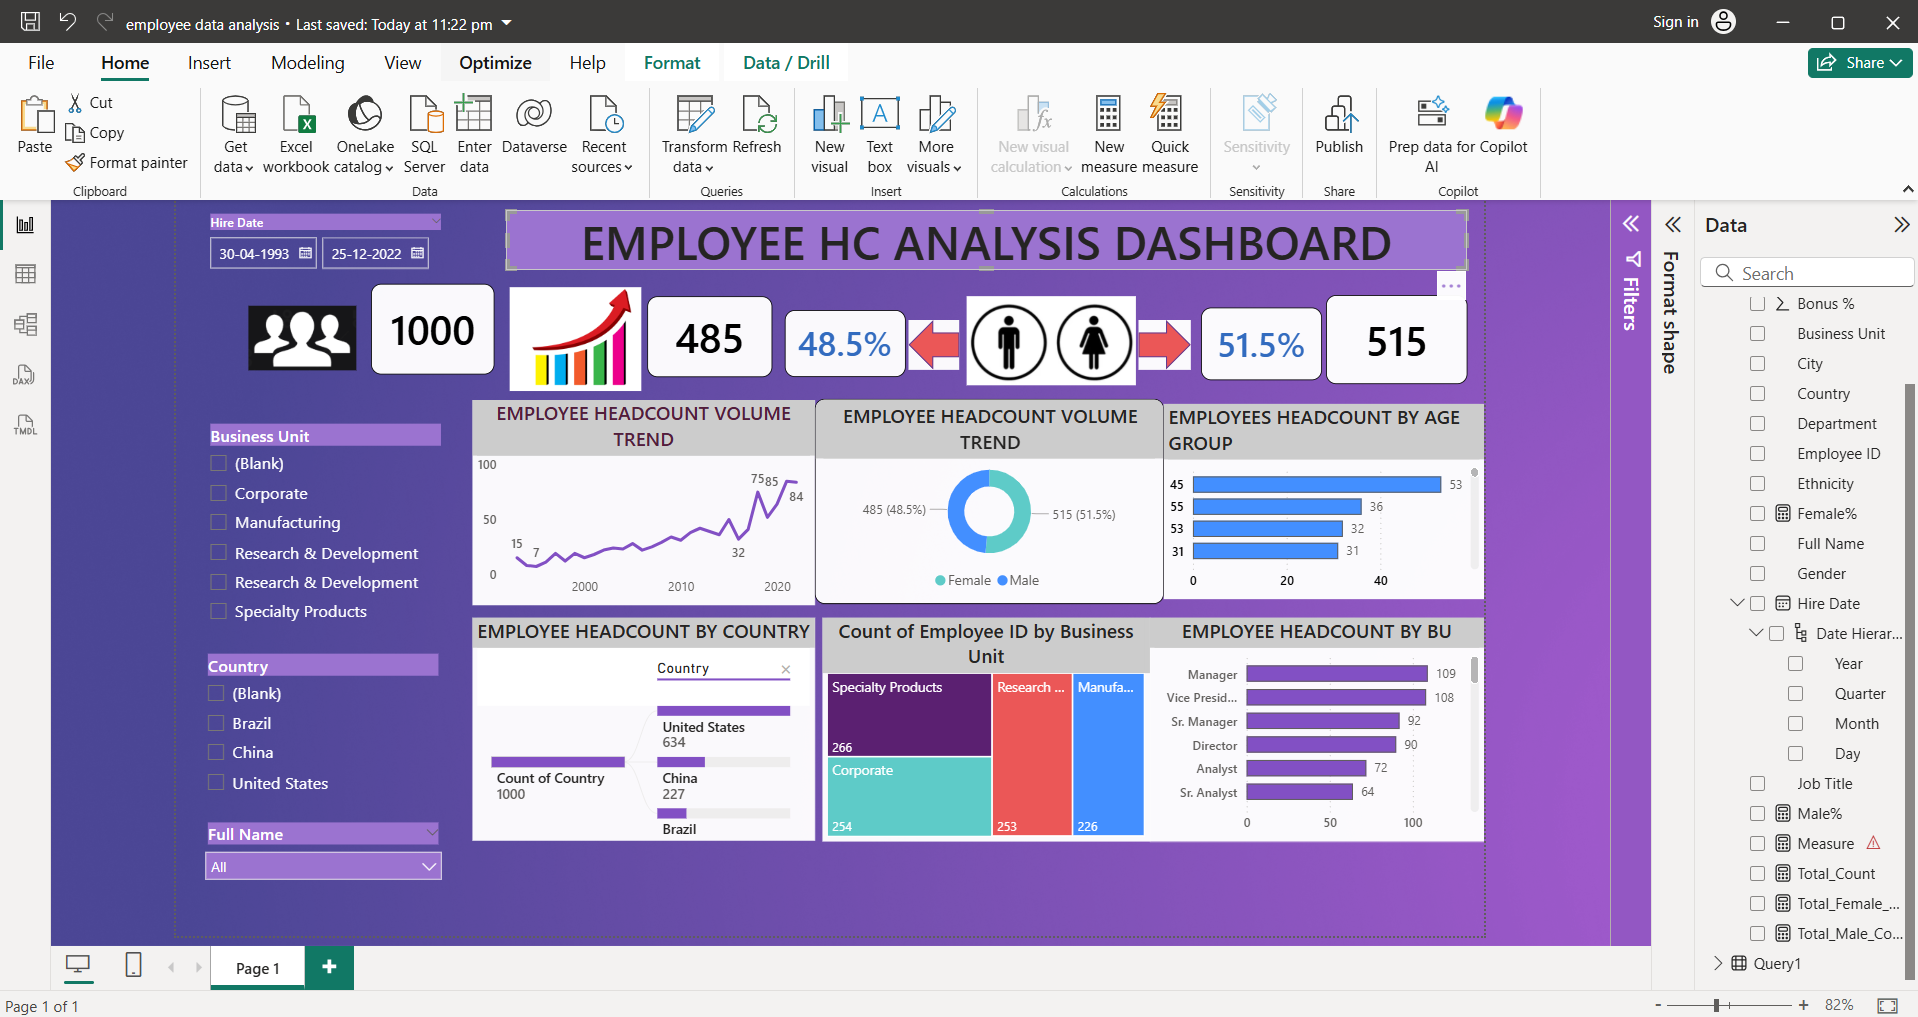

The dashboard page shown, as its layout file describes it:
{"tool":"powerbi","page":{"name":"Page 1","canvas":[1280,720],"ordinal":0},"visuals":[{"type":"card","fields":{"Values":["CountNonNull(Employee Data.Employee ID)"]},"box":[191.2,82.1,121.2,88.9],"z":0},{"type":"image","box":[66,76.7,115.8,115.8],"z":1000},{"type":"lineChart","title":"EMPLOYEE HEADCOUNT VOLUME TREND","fields":{"Category":["Employee Data.Hire Date.Variation.Date Hierarchy.Year"],"Y":["CountNonNull(Employee Data.Employee ID)"]},"box":[289.4,195.2,335.2,200.6],"z":2000},{"type":"donutChart","title":"EMPLOYEE HEADCOUNT VOLUME TREND","fields":{"Category":["Employee Data.Gender"],"Y":["CountNonNull(Employee Data.Employee ID)"]},"box":[624.7,193.9,341.9,200.6],"z":3000},{"type":"clusteredBarChart","title":"EMPLOYEES HEADCOUNT BY AGE GROUP","fields":{"Category":["Employee Data.Age"],"Y":["CountNonNull(Employee Data.Employee ID)"]},"box":[966.6,199.2,313.7,191.2],"z":4000},{"type":"decompositionTreeVisual","title":"EMPLOYEE HEADCOUNT BY COUNTRY","fields":{"Analyze":["CountNonNull(Employee Data.Country)"],"ExplainBy":["Employee Data.Country"]},"box":[293.5,396.2,335.1,306.9],"z":5000},{"type":"treemap","title":"Count of Employee ID by Business Unit","fields":{"Group":["Employee Data.Business Unit"],"Values":["CountNonNull(Employee Data.Employee ID)"]},"box":[632.2,408.4,320.4,265.4],"z":6000},{"type":"clusteredBarChart","title":"EMPLOYEE HEADCOUNT BY BU","fields":{"Category":["Employee Data.Job Title"],"Y":["CountNonNull(Employee Data.Employee ID)"]},"box":[952.6,408.4,327.7,284.9],"z":7000},{"type":"image","box":[612.5,88.9,487.3,96.9],"z":8000},{"type":"card","fields":{"Values":["Employee Data.Total_Male_Count"]},"box":[460.4,94.2,122.5,79.4],"z":9000},{"type":"card","fields":{"Values":["Employee Data.Total_Female_Count"]},"box":[1125.5,92.9,138.7,87.5],"z":10000},{"type":"card","fields":{"Values":["Employee Data.Male%"]},"box":[595,107.7,118.5,66],"z":11000},{"type":"card","fields":{"Values":["Employee Data.Female%"]},"box":[1002.9,105,118.5,71.4],"z":12000},{"type":"shape","title":"EMPLOYEE HR ANALYSIS DASHBOARD","box":[322.8,9.8,940.4,58.7],"z":13000},{"type":"image","box":[321.8,68.7,138.7,136],"z":14000},{"type":"shape","box":[716.2,117.1,49.8,48.5],"z":15000},{"type":"shape","box":[941,117.1,51.2,48.5],"z":16000},{"type":"slicer","fields":{"Values":["Employee Data.Business Unit"]},"box":[20.2,214.1,251.7,224.8],"z":17000},{"type":"slicer","fields":{"Values":["Employee Data.Country"]},"box":[18.8,438.9,251.7,156.2],"z":18000},{"type":"slicer","fields":{"Values":["Employee Data.Full Name"]},"box":[18.8,604.5,251.7,99.6],"z":19000},{"type":"slicer","fields":{"Values":["Employee Data.Hire Date"]},"box":[20.2,8.1,251.7,60.6],"z":20000}]}

Visuals, with their boxes on the page's 1280x720 design canvas (x1, y1, x2, y2). These are canvas units, not pixel positions in the 1918x1017 screenshot, which may show the page scaled, cropped or inside an application window:
card - CountNonNull(Employee Data.Employee ID): x1=191 y1=82 x2=312 y2=171
image: x1=66 y1=77 x2=182 y2=192
"EMPLOYEE HEADCOUNT VOLUME TREND" lineChart: x1=289 y1=195 x2=625 y2=396
"EMPLOYEE HEADCOUNT VOLUME TREND" donutChart: x1=625 y1=194 x2=967 y2=394
"EMPLOYEES HEADCOUNT BY AGE GROUP" clusteredBarChart: x1=967 y1=199 x2=1280 y2=390
"EMPLOYEE HEADCOUNT BY COUNTRY" decompositionTreeVisual: x1=294 y1=396 x2=629 y2=703
"Count of Employee ID by Business Unit" treemap: x1=632 y1=408 x2=953 y2=674
"EMPLOYEE HEADCOUNT BY BU" clusteredBarChart: x1=953 y1=408 x2=1280 y2=693
image: x1=612 y1=89 x2=1100 y2=186
card - Employee Data.Total_Male_Count: x1=460 y1=94 x2=583 y2=174
card - Employee Data.Total_Female_Count: x1=1126 y1=93 x2=1264 y2=180
card - Employee Data.Male%: x1=595 y1=108 x2=714 y2=174
card - Employee Data.Female%: x1=1003 y1=105 x2=1121 y2=176
"EMPLOYEE HR ANALYSIS DASHBOARD" shape: x1=323 y1=10 x2=1263 y2=68
image: x1=322 y1=69 x2=460 y2=205
shape: x1=716 y1=117 x2=766 y2=166
shape: x1=941 y1=117 x2=992 y2=166
slicer - Employee Data.Business Unit: x1=20 y1=214 x2=272 y2=439
slicer - Employee Data.Country: x1=19 y1=439 x2=270 y2=595
slicer - Employee Data.Full Name: x1=19 y1=604 x2=270 y2=704
slicer - Employee Data.Hire Date: x1=20 y1=8 x2=272 y2=69
